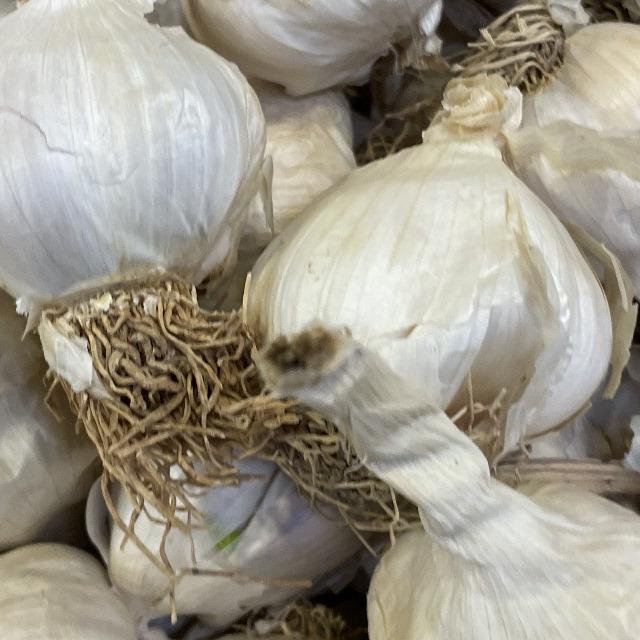garlic: (0, 0, 320, 482), (315, 335, 640, 640)
